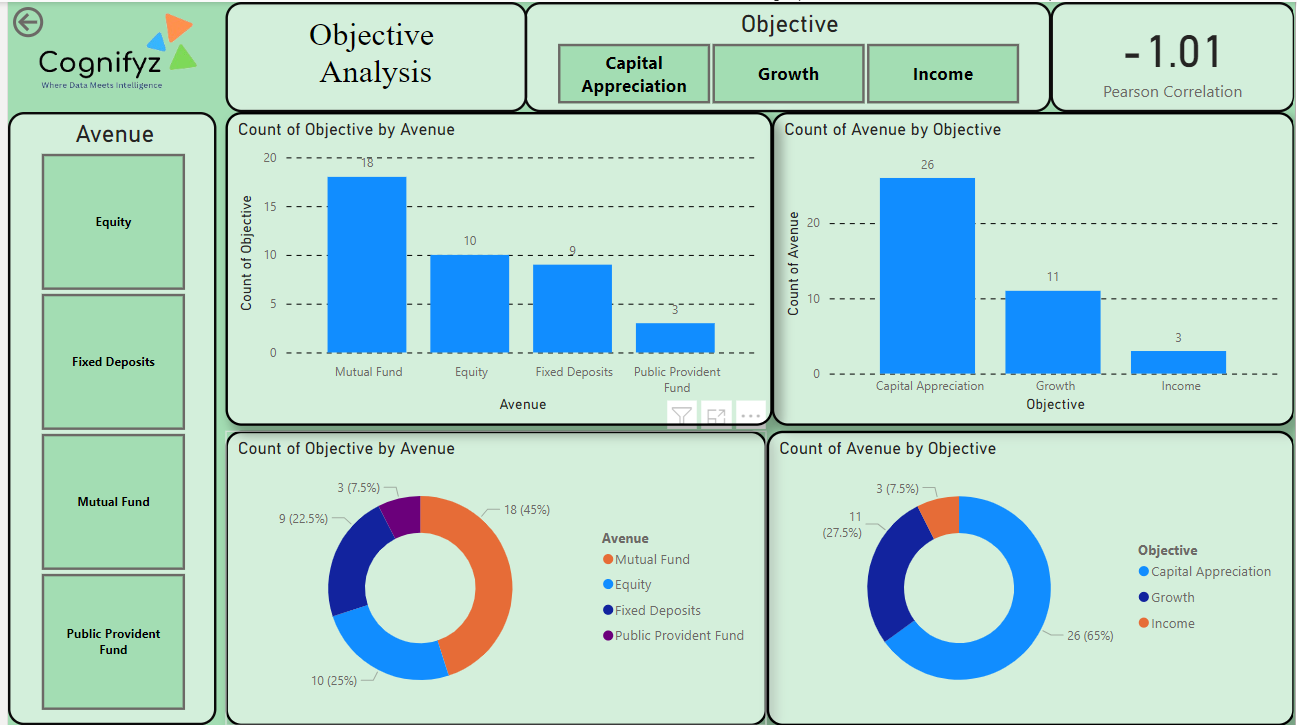

What the dashboard file says about the page in this screenshot:
{"tool":"powerbi","page":{"name":"Task 3","canvas":[1280,720],"ordinal":2},"visuals":[{"type":"clusteredColumnChart","fields":{"Category":["Data_set 2.Objective"],"Y":["CountNonNull(Data_set 2.Avenue)"]},"box":[759.8,109.7,520.1,312.1],"z":0},{"type":"card","fields":{"Values":["measures (2).Pearson Correlation"]},"box":[1037,0,243.3,109.6],"z":1000},{"type":"slicer","title":"Avenue","fields":{"Values":["Data_set 2.Avenue"]},"box":[0,109.6,207.6,609.9],"z":2000},{"type":"donutChart","fields":{"Category":["Data_set 2.Avenue"],"Y":["CountNonNull(Data_set 2.Objective)"]},"box":[215.7,425.7,538.8,293.9],"z":3000},{"type":"columnChart","fields":{"Category":["Data_set 2.Avenue"],"Y":["CountNonNull(Data_set 2.Objective)"]},"box":[216,109.7,543.8,312.1],"z":4000},{"type":"donutChart","fields":{"Category":["Data_set 2.Objective"],"Y":["CountNonNull(Data_set 2.Avenue)"]},"box":[754.5,425.7,524.8,293.9],"z":5000},{"type":"actionButton","box":[0,0,100,40],"z":6000},{"type":"slicer","title":"Objective","fields":{"Values":["Data_set 2.Objective"]},"box":[513.1,0,523.6,109.6],"z":7000},{"type":"textbox","box":[215.7,0,299.7,109.6],"z":8000},{"type":"image","box":[0,0,207.6,102.6],"z":9000}]}

Visuals, with their boxes in screenshot pixels (x1, y1, x2, y2), scaled from the page's 1280x720 canvas onto the 1297x725 screenshot:
clusteredColumnChart - Data_set 2.Objective x CountNonNull(Data_set 2.Avenue): bbox(770, 110, 1296, 425)
card - measures (2).Pearson Correlation: bbox(1051, 0, 1296, 110)
"Avenue" slicer: bbox(0, 110, 210, 724)
donutChart - Data_set 2.Avenue x CountNonNull(Data_set 2.Objective): bbox(219, 429, 765, 724)
columnChart - Data_set 2.Avenue x CountNonNull(Data_set 2.Objective): bbox(219, 110, 770, 425)
donutChart - Data_set 2.Objective x CountNonNull(Data_set 2.Avenue): bbox(765, 429, 1296, 724)
actionButton: bbox(0, 0, 101, 40)
"Objective" slicer: bbox(520, 0, 1050, 110)
textbox: bbox(219, 0, 522, 110)
image: bbox(0, 0, 210, 103)
